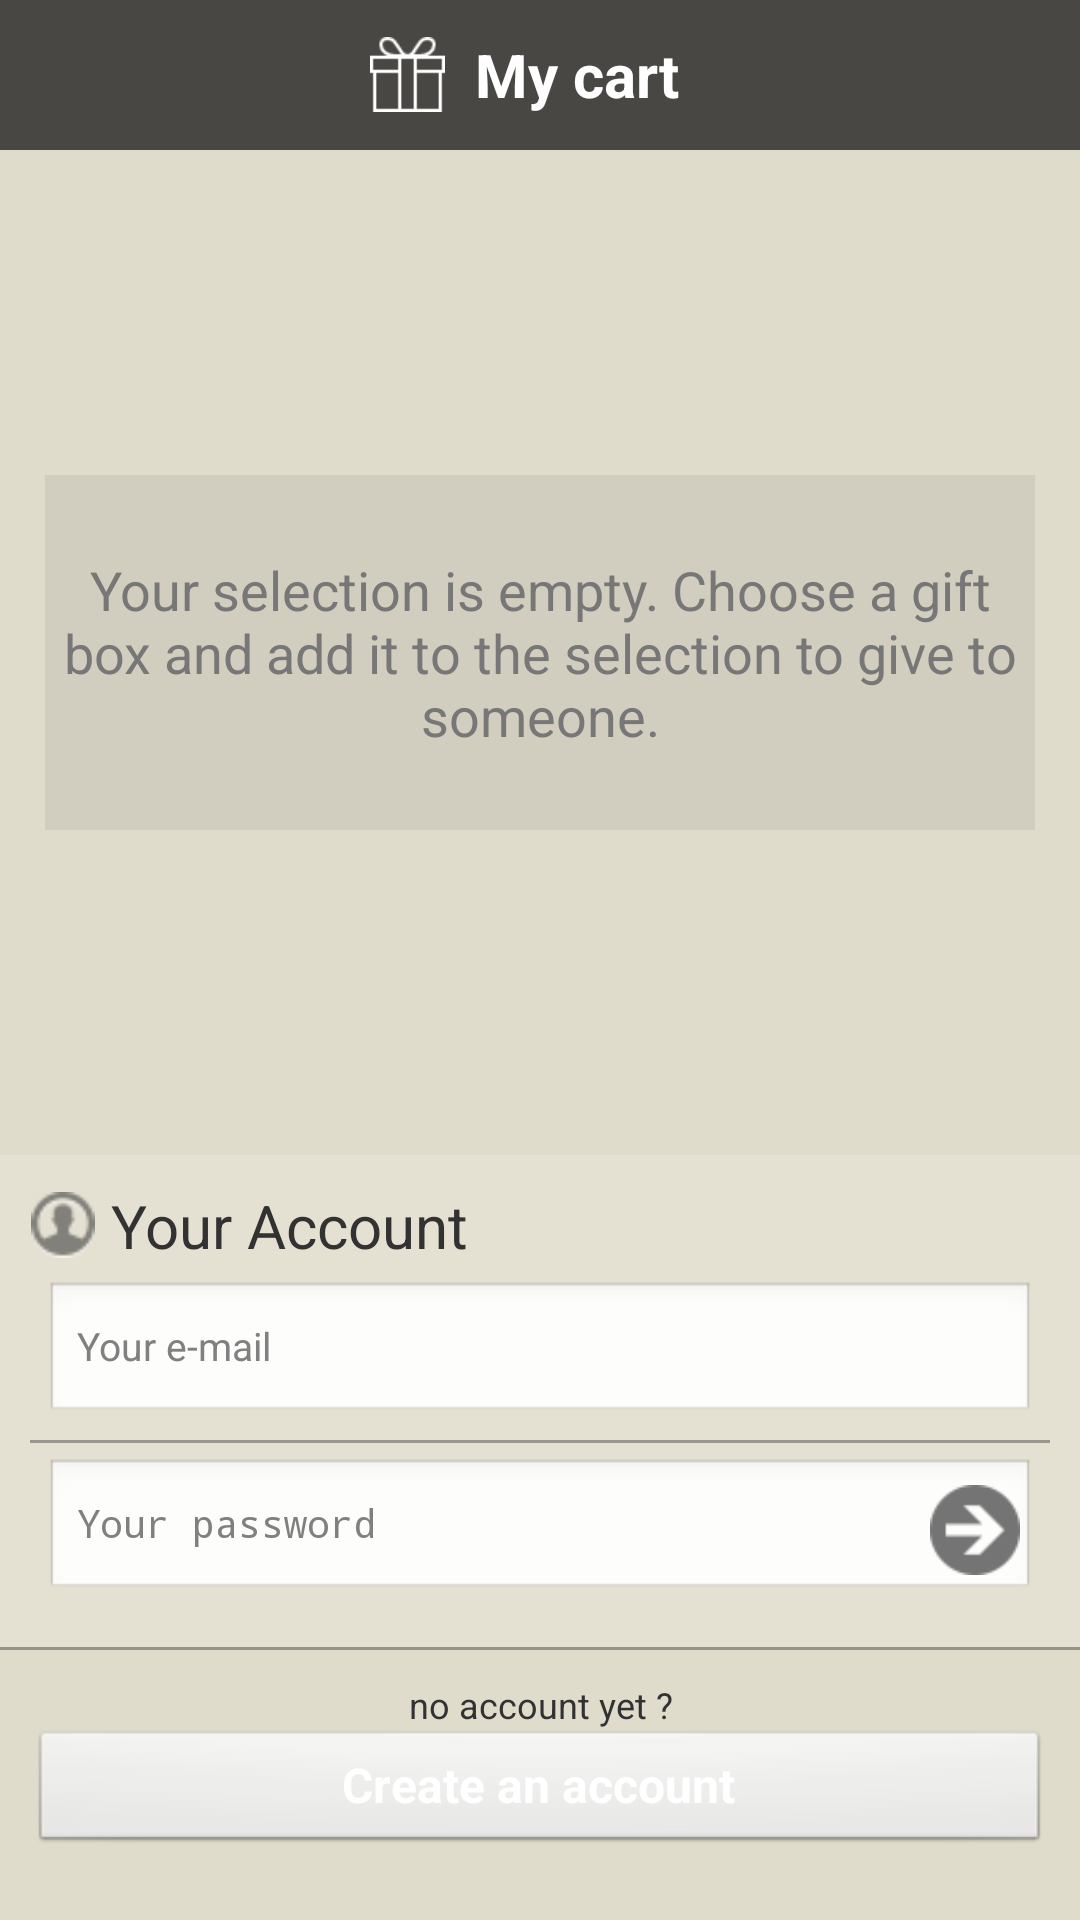

Icon click points for this 1080 × 1920 phone screenshot, format point (x, y):
gift: point (407, 74)
login: point (975, 1530)
user: point (63, 1225)
